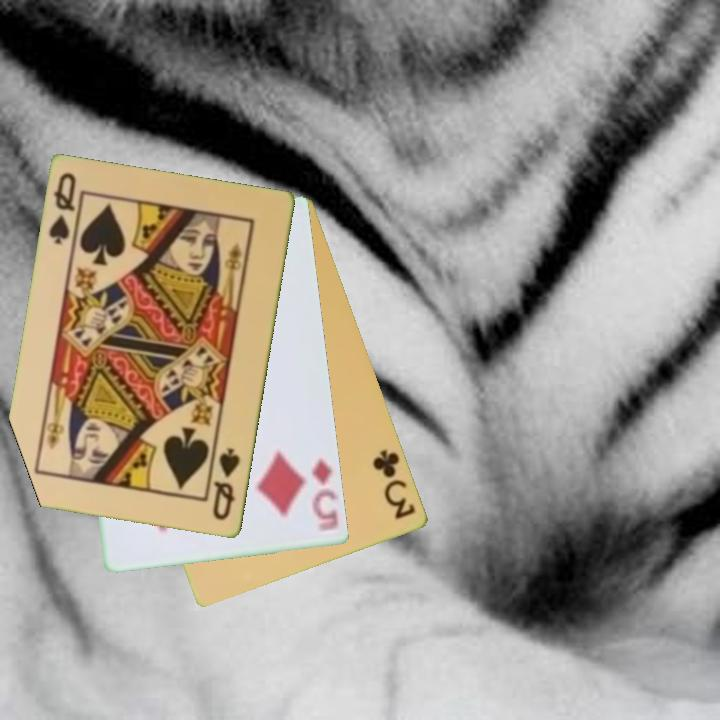3c: (369, 446, 419, 523)
5d: (309, 455, 342, 535)
Qs: (45, 169, 85, 252), (209, 445, 243, 524)
